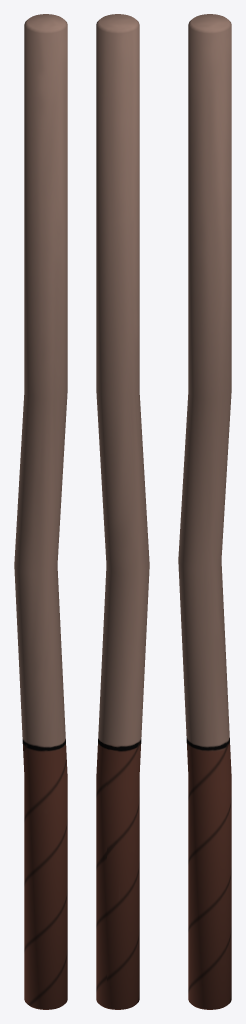
File: uploads_files_3028480_SM_BeatingStick.fbx
3 views of the same model, side by side, from view 1: azimuth 30°, elevation 25°; view 2: azimuth 150°, elevation 25°; view 3: azimuth 330°, elevation 25° (orthographic).
Visible parts, largest first — view 1: Cylinder; view 2: Cylinder; view 3: Cylinder.
Boxes of the visible parts, bbox=[...] form: Cylinder: bbox=[14, 14, 67, 1009]; Cylinder: bbox=[96, 14, 149, 1009]; Cylinder: bbox=[178, 14, 231, 1009].
Bounding box in the file's own units: 6.35 × 125 × 5.
